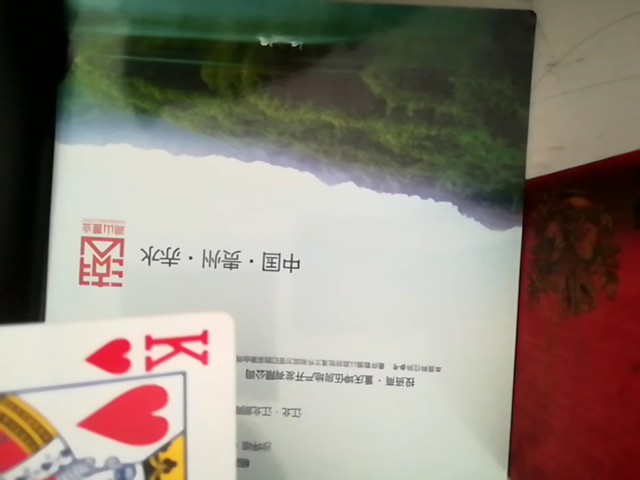hx k: (0, 315, 258, 480)
